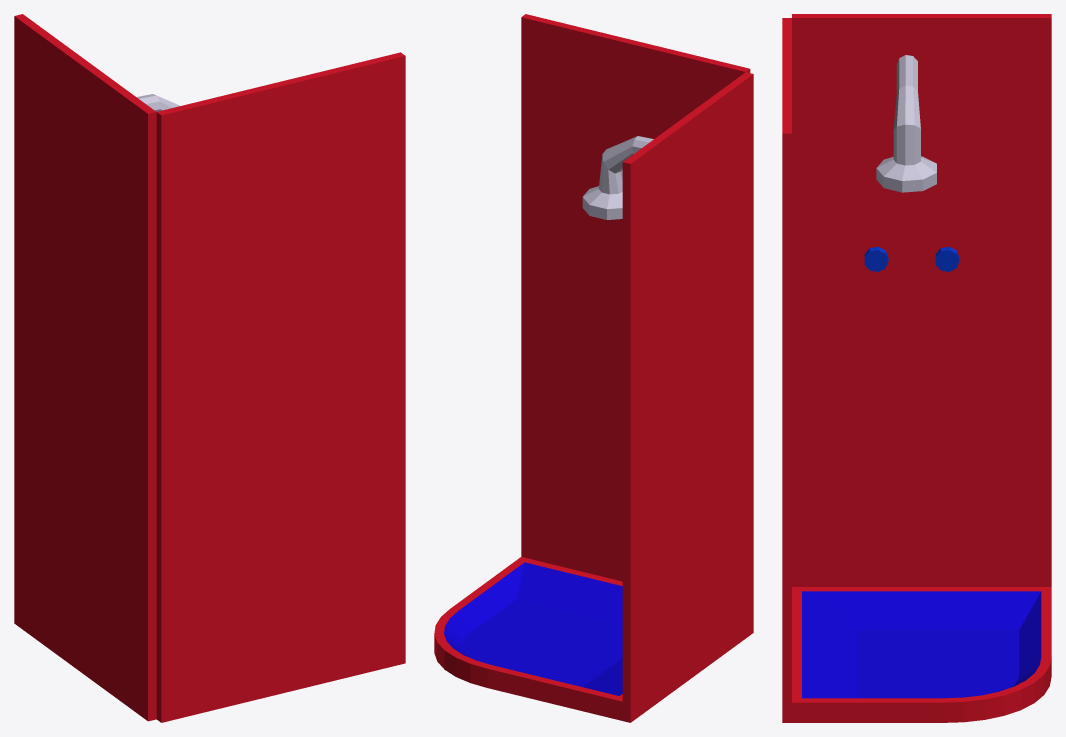
File: Prysznic.fbx
3 views of the same model, side by side, from view 1: azimuth 30°, elevation 25°; view 2: azimuth 150°, elevation 25°; view 3: azimuth 270°, elevation 25° (orthographic). The views are drawn at different scales.
Visible parts, largest first — view 1: Plane; view 2: Plane; view 3: Plane.
Boxes of the visible parts, left/top/right/bottom form: Plane: left=14, top=14, right=405, bottom=722; Plane: left=434, top=14, right=753, bottom=722; Plane: left=782, top=14, right=1051, bottom=722.
Bounding box in the file's own units: 598 × 1374 × 568.
